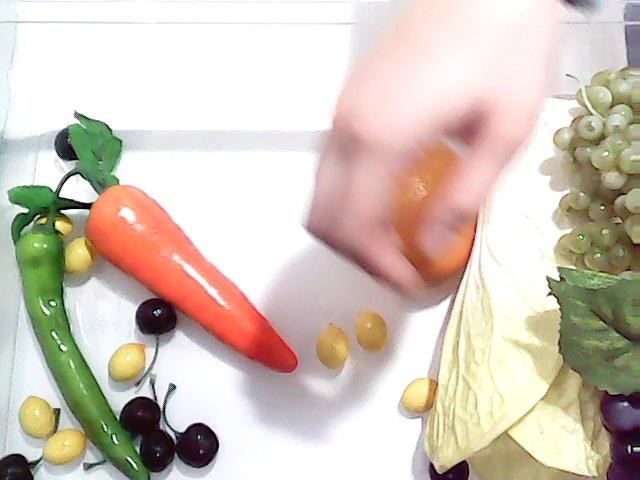carrot: (5, 108, 298, 376)
grape: (547, 272, 640, 480), (554, 68, 636, 272)
lemon: (363, 124, 491, 286)
napa cabbage: (436, 82, 640, 480)
pepper: (8, 180, 152, 480)
